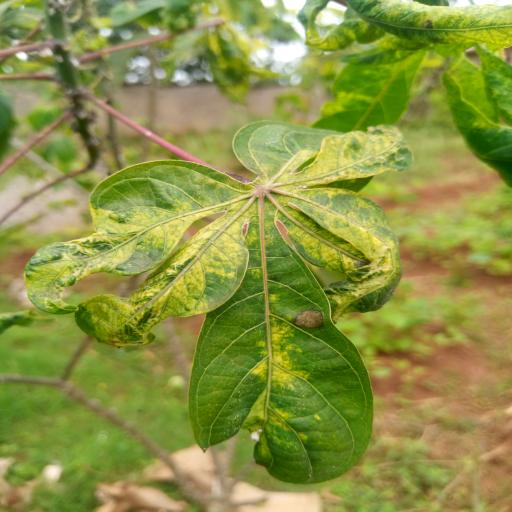Cassava_Mosaic: (18, 118, 417, 484)
